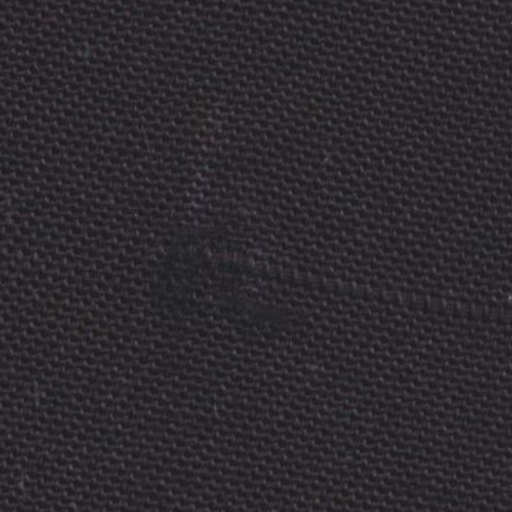DaiSha: (169, 215, 486, 330)
